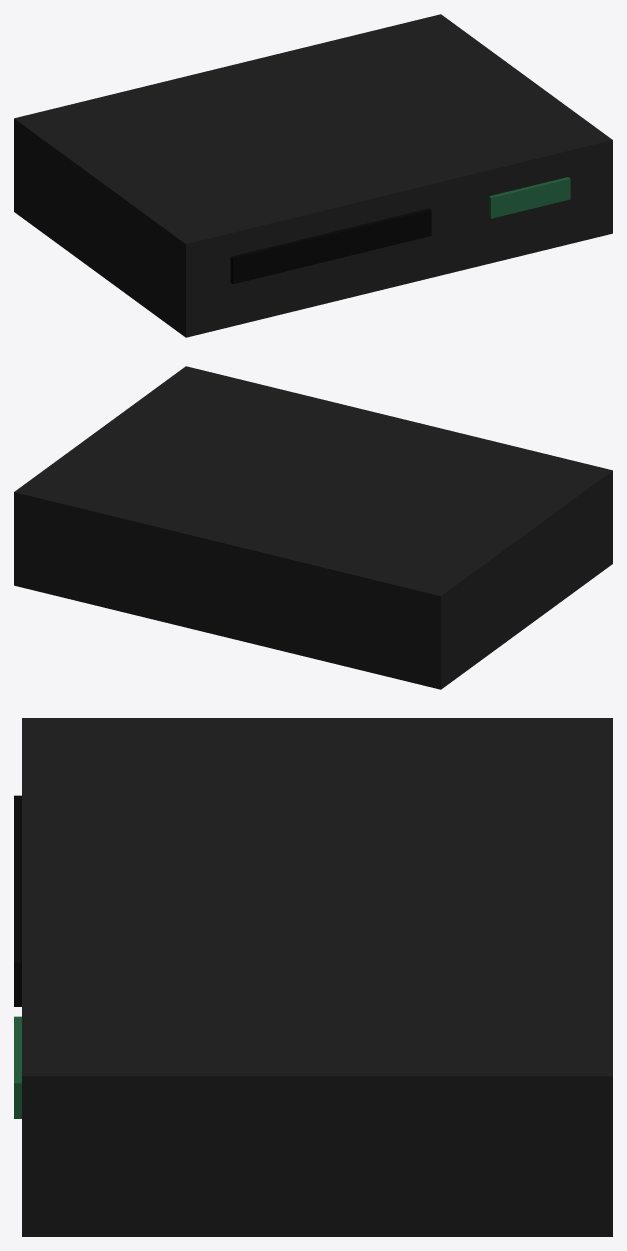
The model's file is vhsplayer.glb.
3 renders of one model, top to bottom at view 1: azimuth 30°, elevation 25°; view 2: azimuth 150°, elevation 25°; view 3: azimuth 270°, elevation 25°, orthographic. The views are drawn at different scales.
Bounding box in the file's own units: 0.43 × 0.09 × 0.304.
